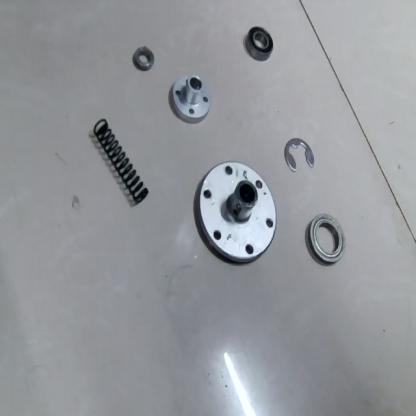FOD: (196, 158, 278, 266), (91, 115, 150, 207), (168, 69, 216, 125), (307, 213, 347, 268), (243, 19, 276, 64), (284, 138, 320, 173), (131, 42, 158, 74)
